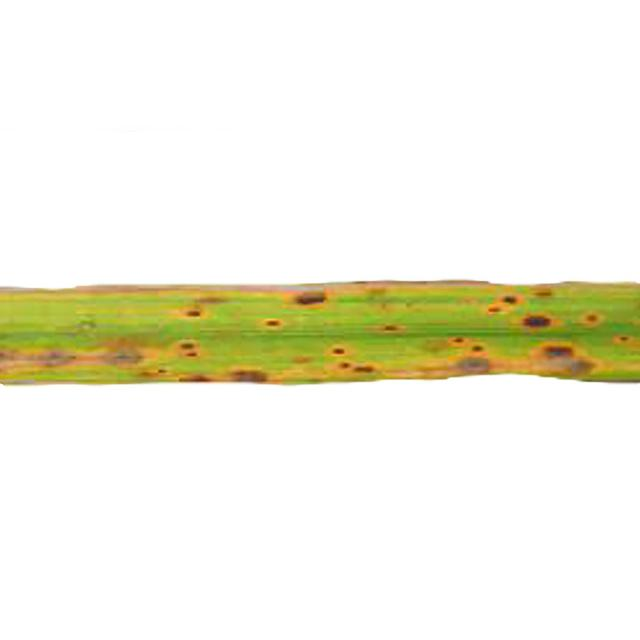Brown spot: (2, 347, 640, 383), (473, 289, 630, 343), (286, 290, 334, 312), (184, 302, 211, 328), (371, 321, 401, 338), (261, 312, 282, 331)
